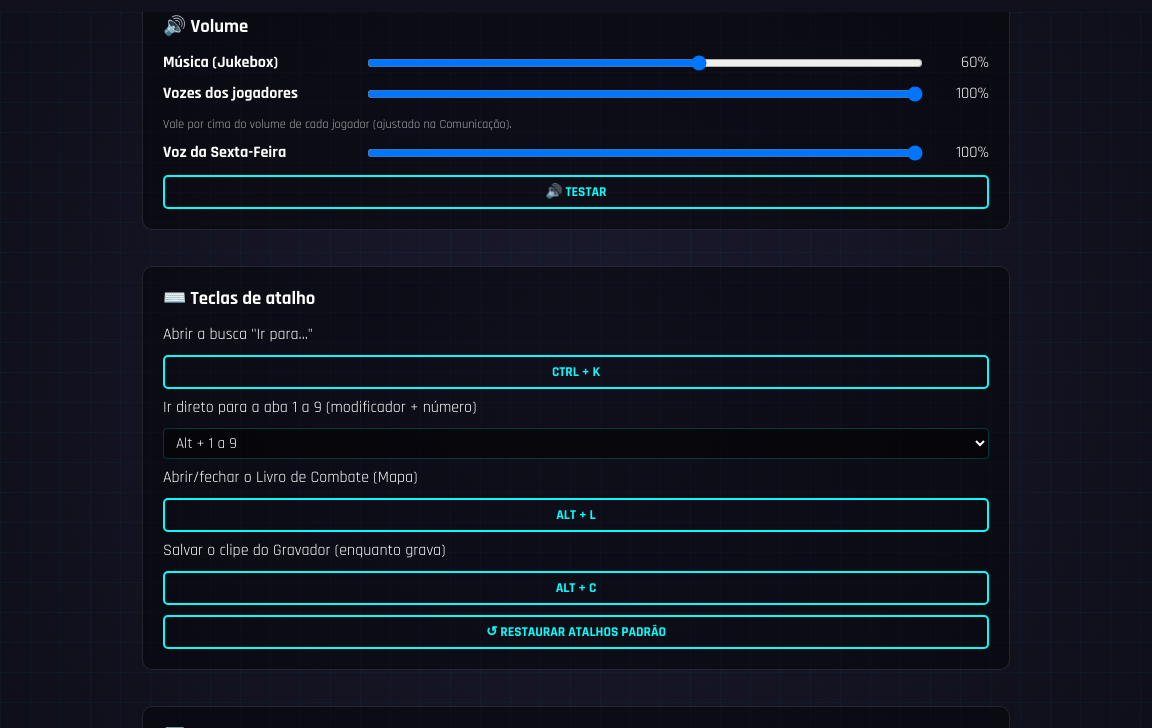
ConfiguracoesPanel - atalhos › tecla sem modificador mostra aviso e nao salva
(page scrolled)
Step 1. Click the button with aria-label "Alterar o atalho: Abrir a busca" → (576,372), box [163, 355, 989, 389]
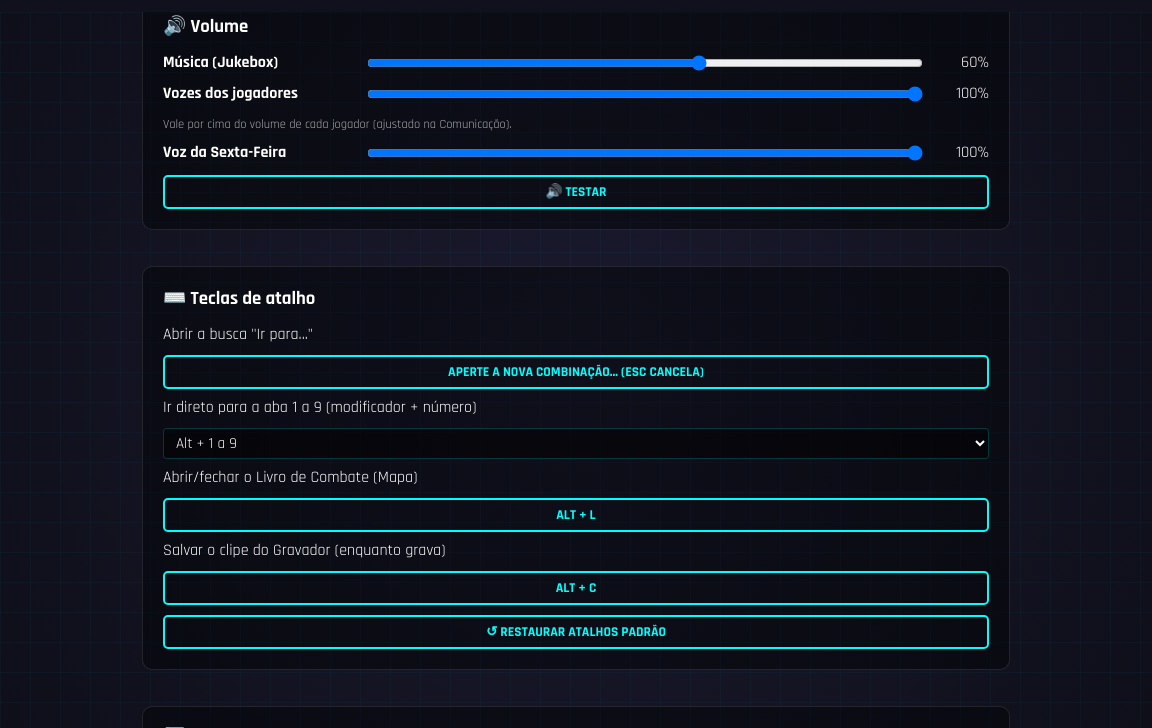
Step 2. Press j
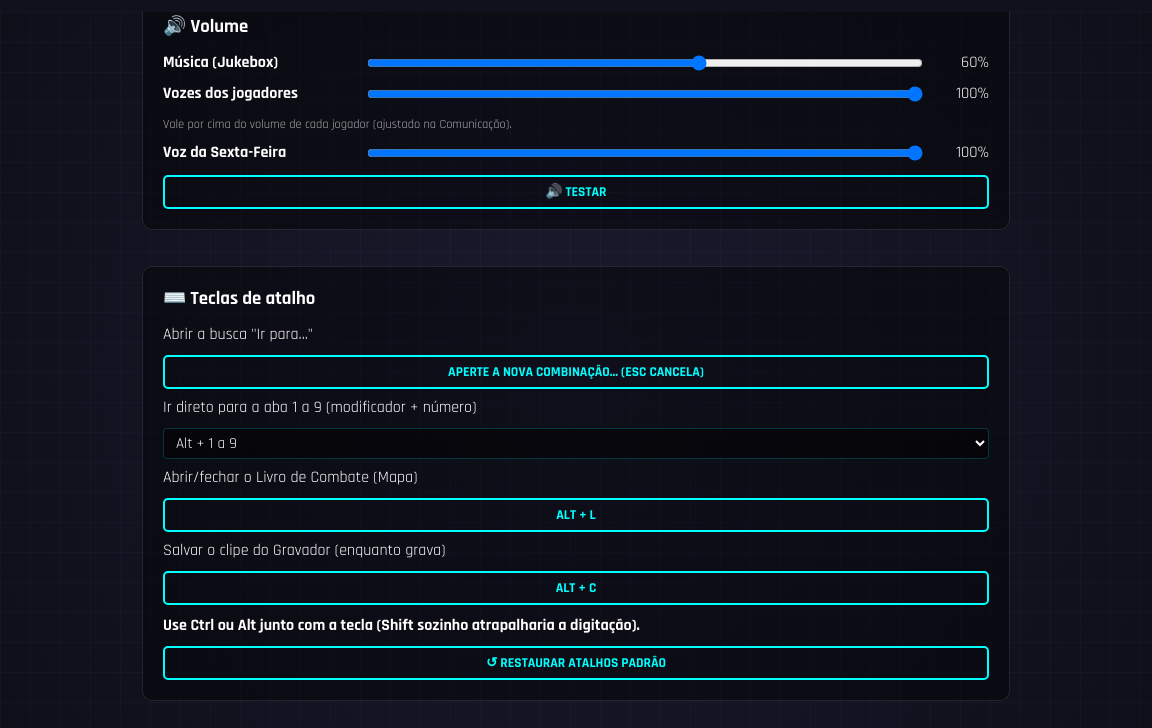
Now the button with aria-label "Alterar o atalho: Abrir a busca" shows "Aperte", box [163, 355, 989, 389]
Now the message shows "Ctrl ou Alt", box [163, 615, 640, 636]
